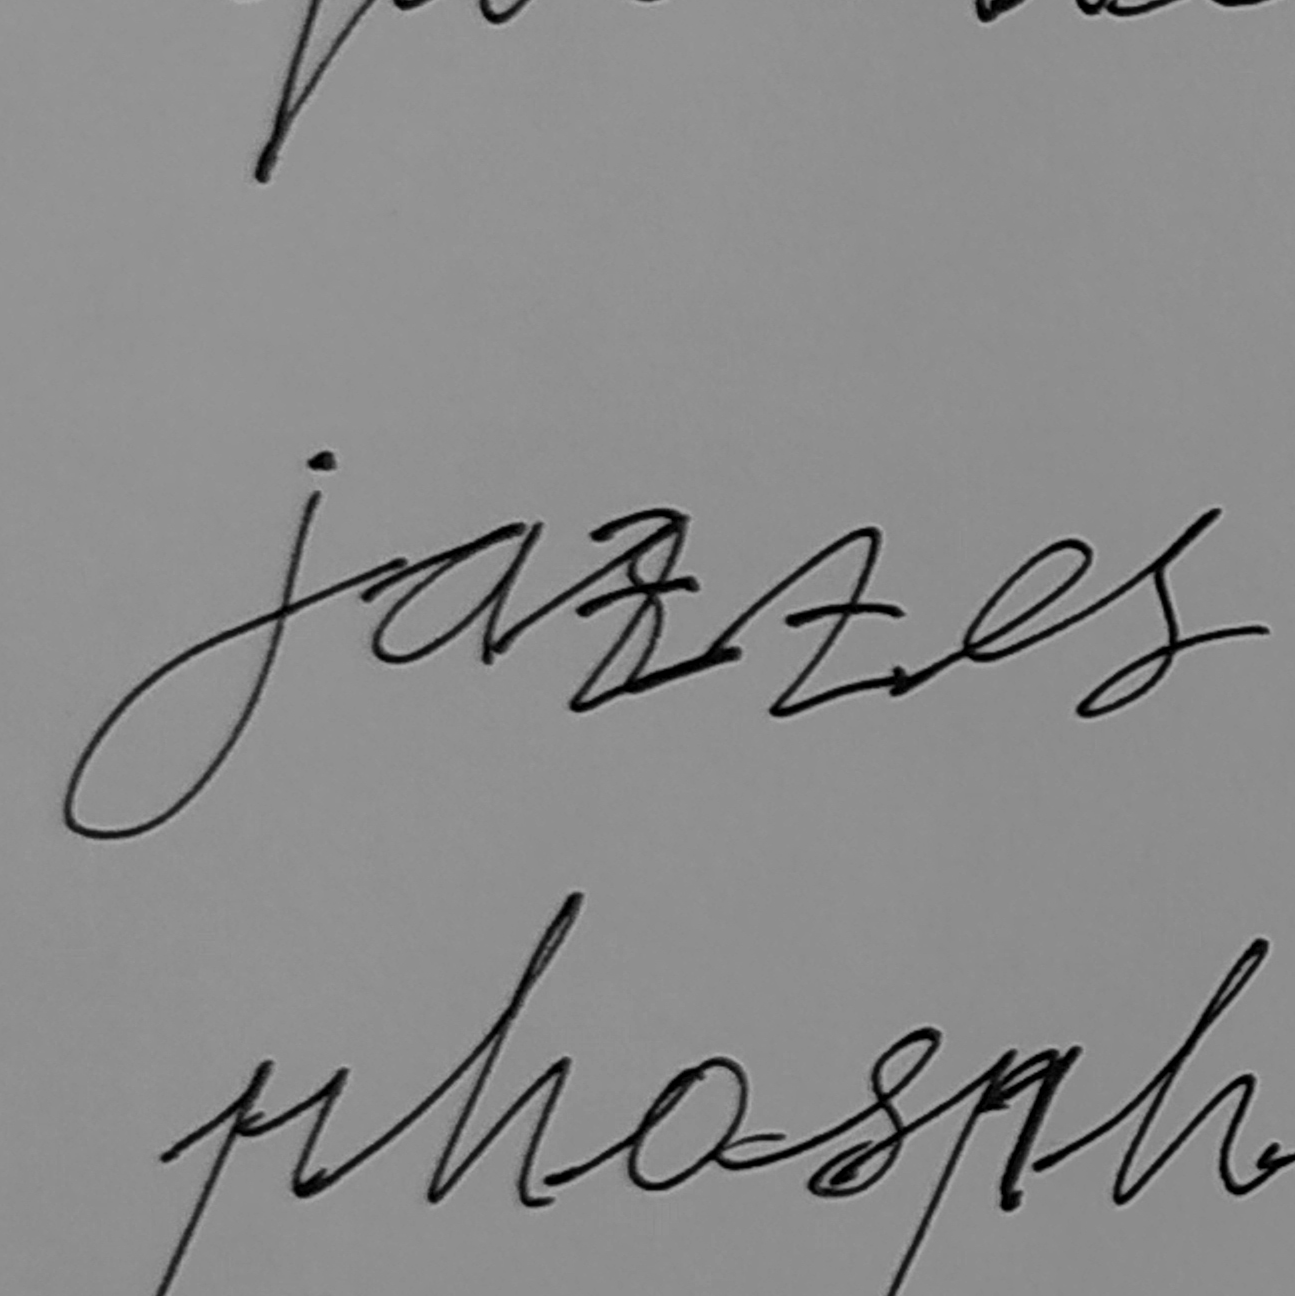a: (364, 513, 550, 672)
e: (955, 531, 1102, 669)
j: (49, 445, 343, 843)
s: (1073, 503, 1226, 721)
z: (763, 521, 916, 724), (561, 502, 706, 716)
